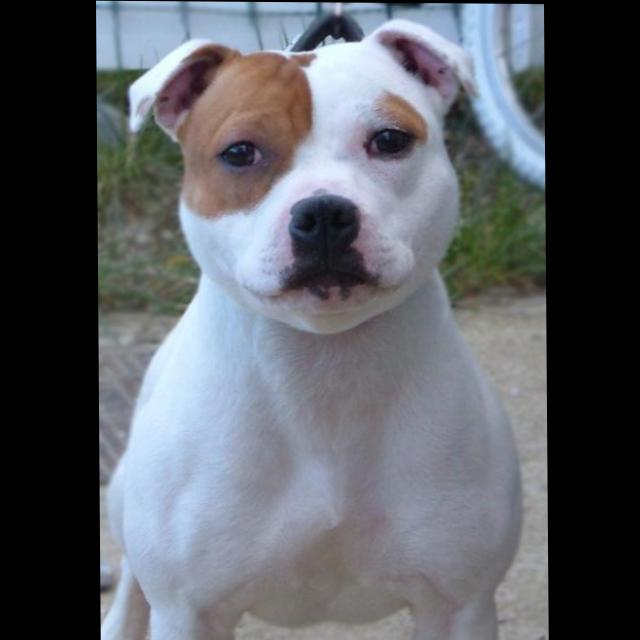staffford: (97, 16, 525, 640)
